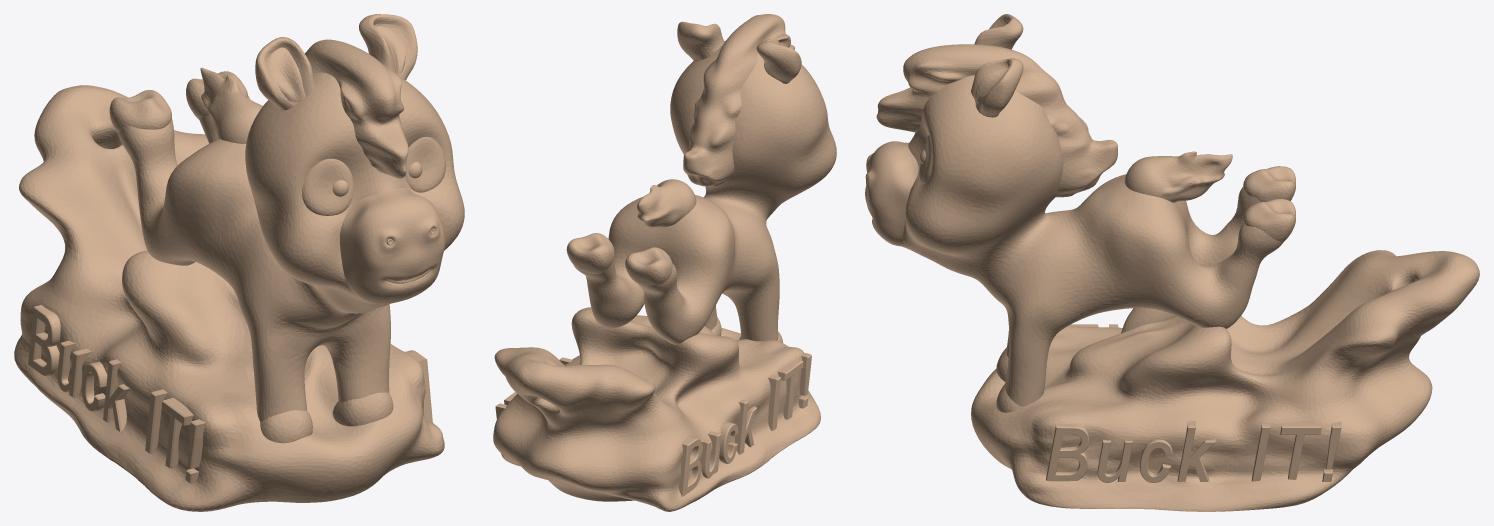
File: bronco.glb
3 renders of one model, left to right at view 1: azimuth 30°, elevation 25°; view 2: azimuth 150°, elevation 25°; view 3: azimuth 270°, elevation 25°, orthographic. The views are drawn at different scales.
Parts seen in each view (by area): view 1: bronco; view 2: bronco; view 3: bronco.
Boxes of the visible parts, x1,y1,x2,y2 form: bronco: (14, 14, 464, 511); bronco: (493, 14, 836, 511); bronco: (865, 14, 1479, 511).
Size of the model in its own units: 23.51 by 36.6 by 49.9.
